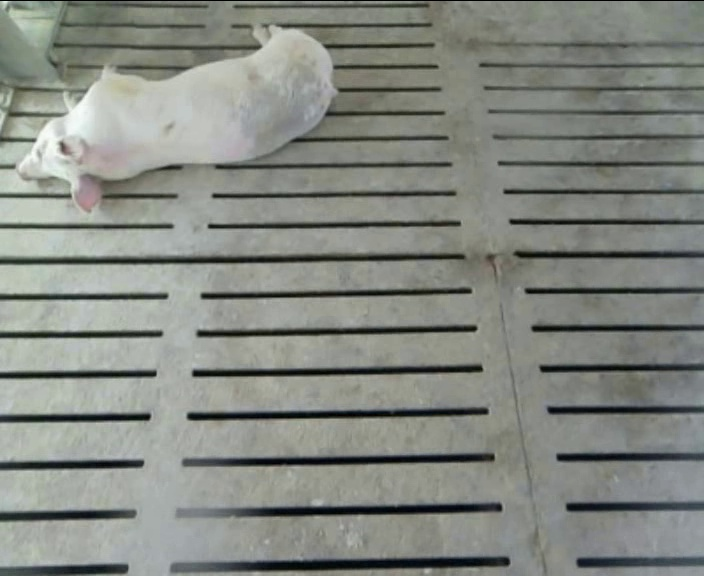pig: (17, 25, 336, 211)
